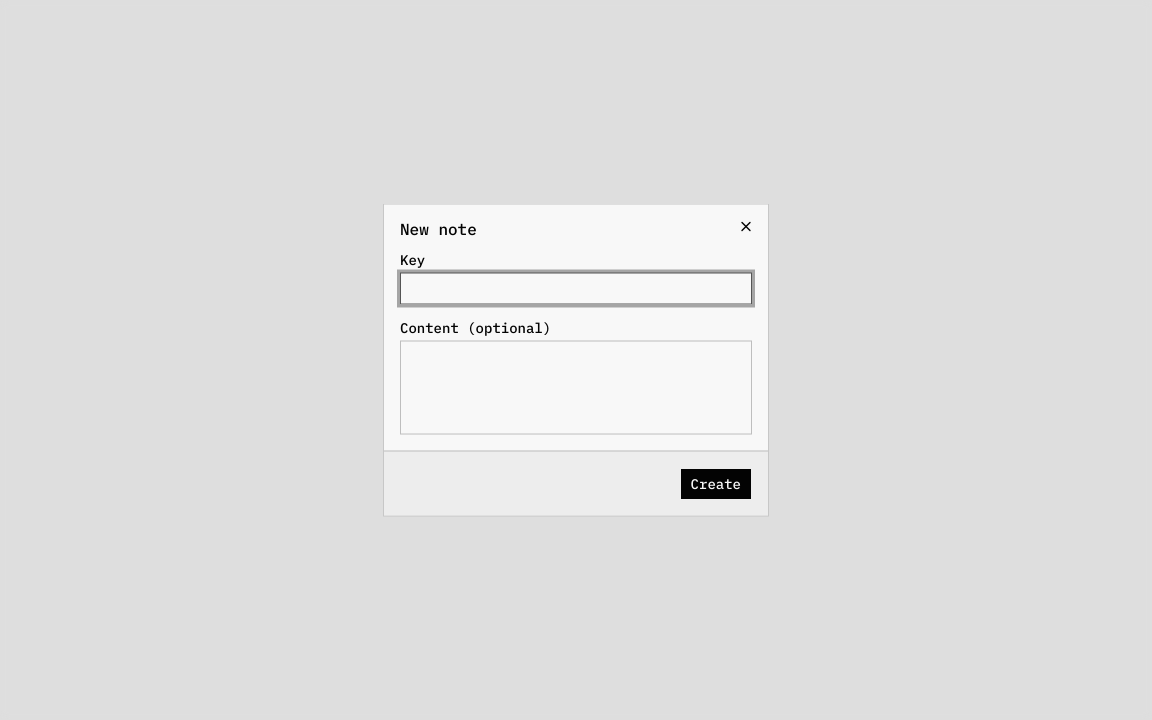
Test: GlobalCreateDialogs — descriptor table › validates that a key is required for every kind
The image size is (1152, 720).
Click the button "Create": (716, 484) top-left (680, 468), bottom-right (752, 500)
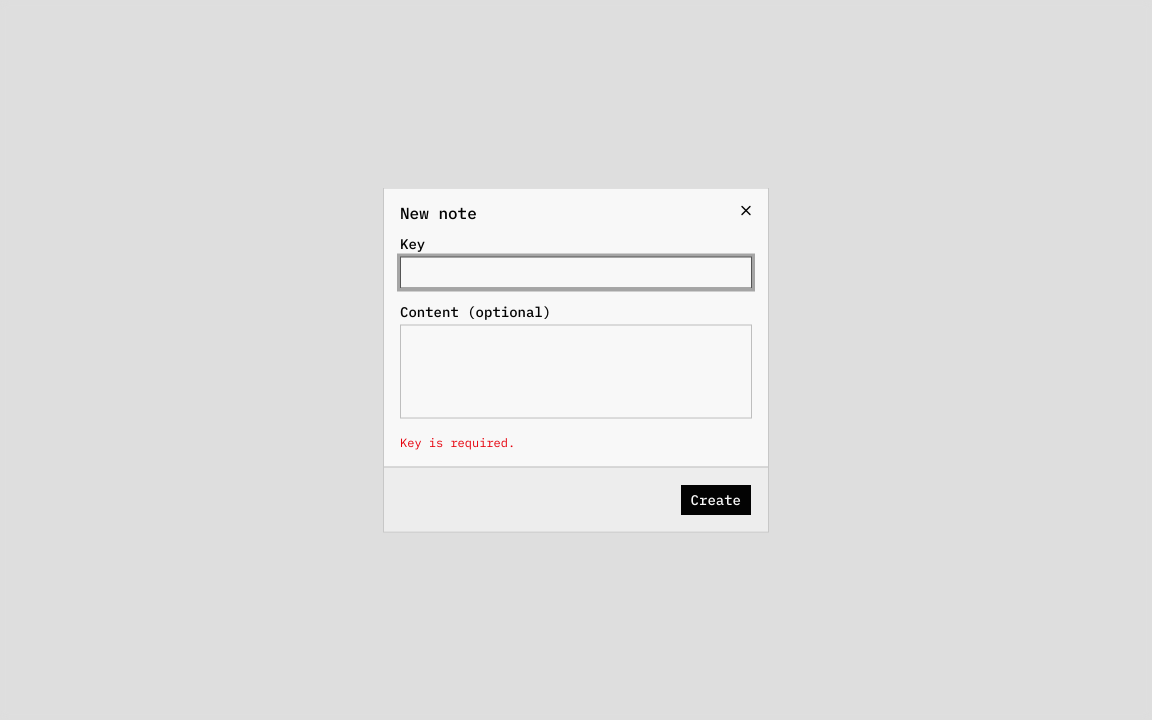
Result: the text "Key is required." is shown at top-left (400, 434), bottom-right (515, 450)
